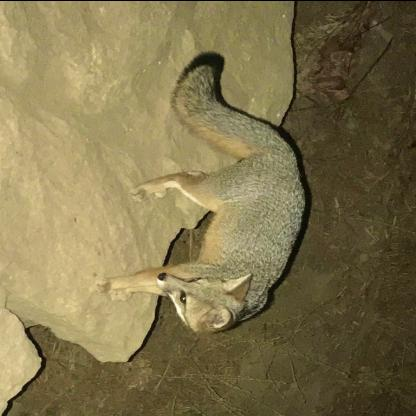zorro: (92, 48, 314, 336)
